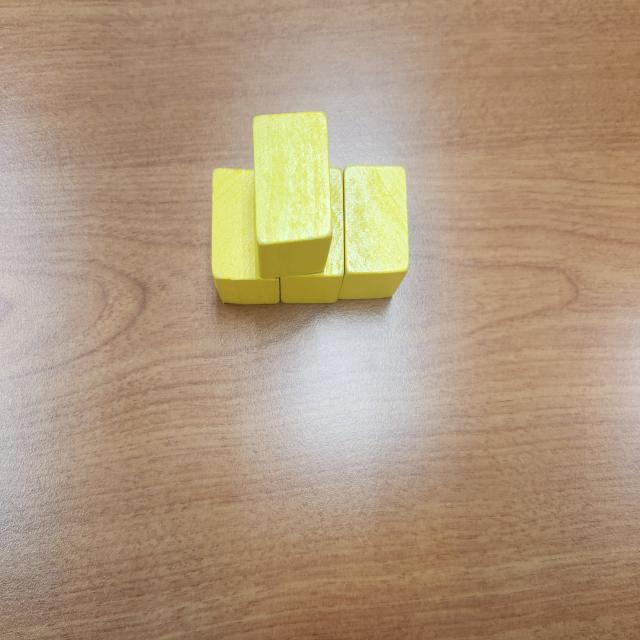yellow: (251, 112, 333, 278), (338, 165, 410, 301), (212, 168, 282, 306), (280, 166, 344, 307)
